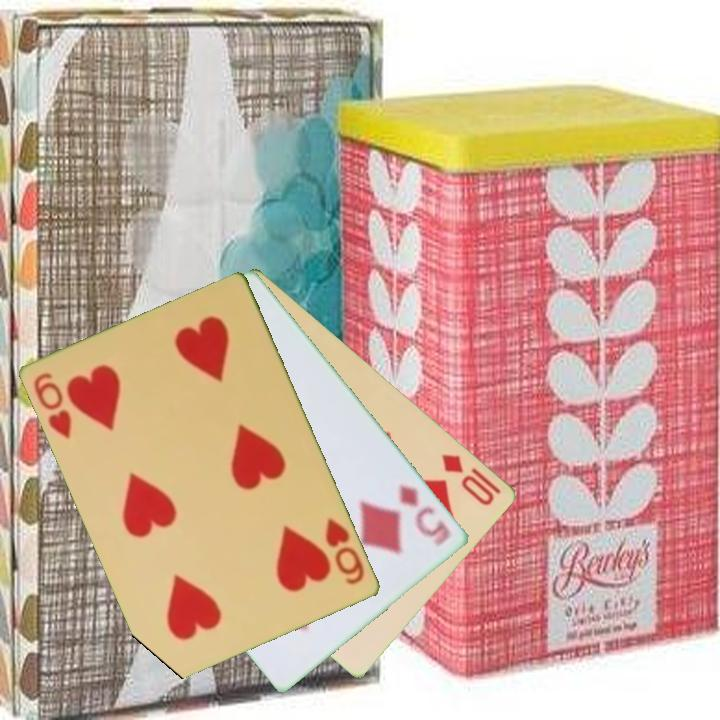10d: (438, 450, 498, 509)
5d: (396, 480, 454, 549)
6h: (322, 514, 368, 588), (30, 369, 76, 443)
